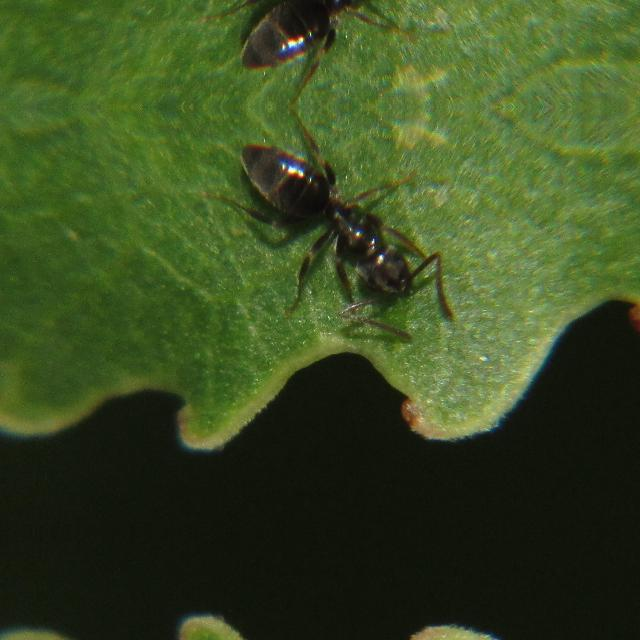Tapinoma: (214, 122, 464, 322), (214, 0, 464, 88)
